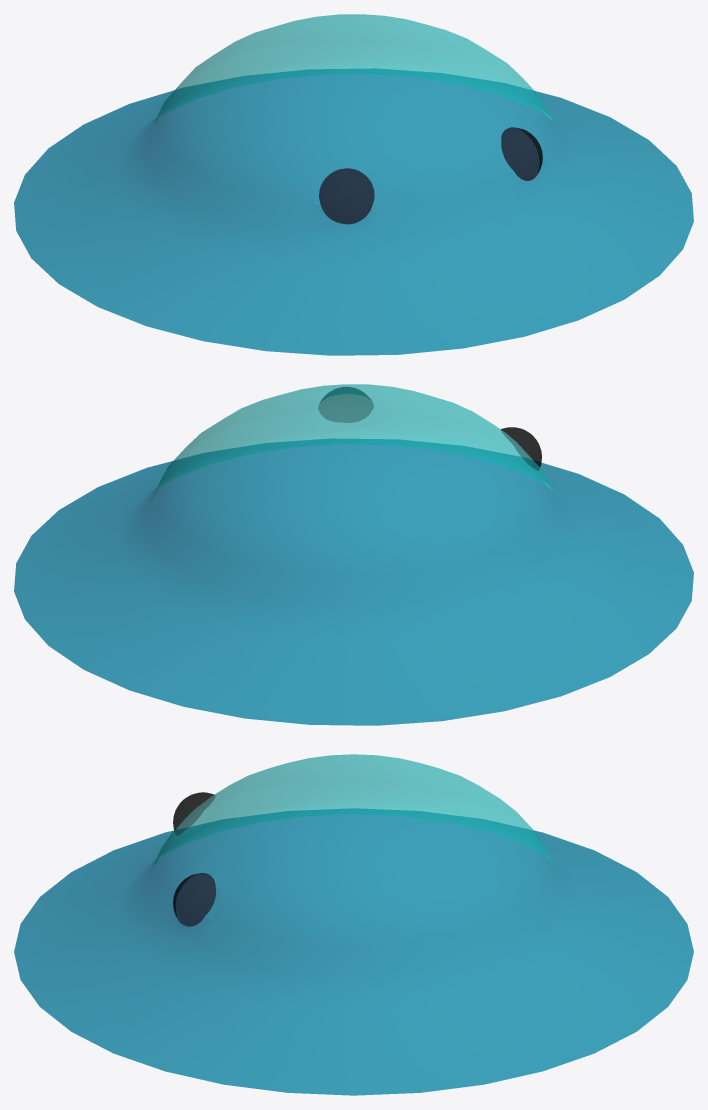
File: Slime.FBX
3 renders of one model, top to bottom at view 1: azimuth 30°, elevation 25°; view 2: azimuth 150°, elevation 25°; view 3: azimuth 270°, elevation 25°, orthographic.
Visible parts, largest first — view 1: Slime; view 2: Slime; view 3: Slime.
Part boxes in pixels (x1,y1,x2,y2): Slime: [14, 14, 693, 355]; Slime: [14, 384, 693, 725]; Slime: [14, 754, 693, 1095].
Bounding box in the file's own units: 143 × 39.52 × 143.
